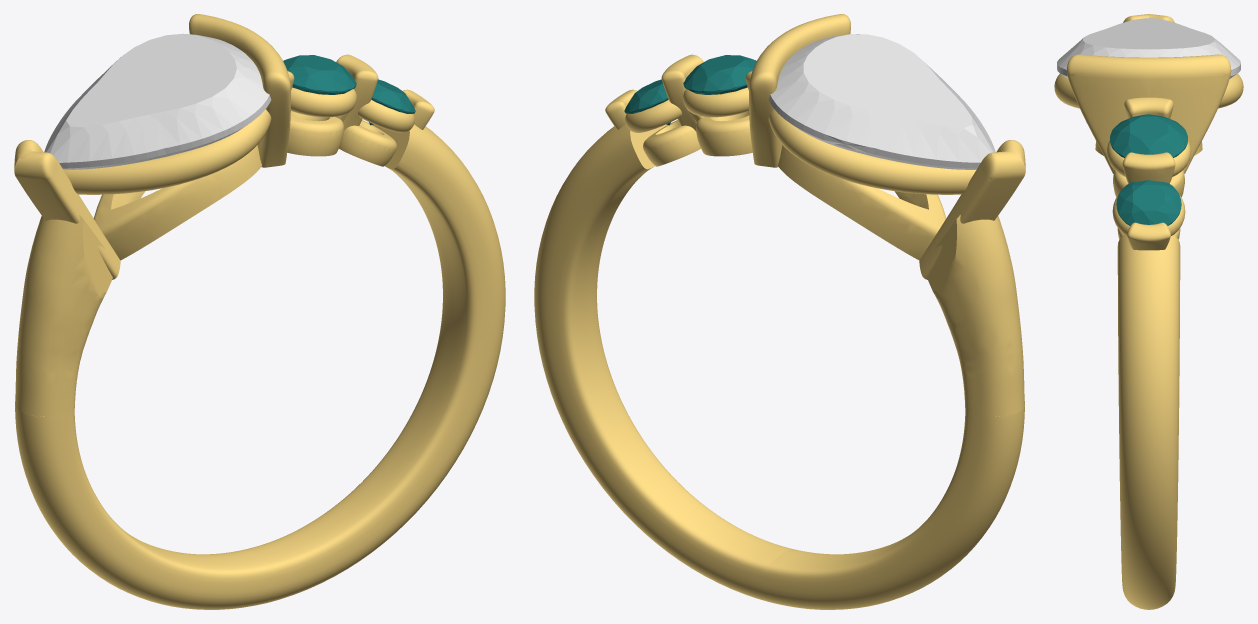
Rendered from NicolasYGhalfsNEW_blender.glb.
The picture shows the model from 3 angles, left to right: view 1: azimuth 30°, elevation 25°; view 2: azimuth 150°, elevation 25°; view 3: azimuth 270°, elevation 25°; orthographic projection. The views are drawn at different scales.
Visible parts, largest first — view 1: V2 Nicolas YG for 3d model, V2 Nicolas center dia for 3d model, V2 Nicolas side sapphire for 3d model.001, V2 Nicolas side sapphire for 3d model; view 2: V2 Nicolas YG for 3d model, V2 Nicolas center dia for 3d model, V2 Nicolas side sapphire for 3d model.001, V2 Nicolas side sapphire for 3d model; view 3: V2 Nicolas YG for 3d model, V2 Nicolas center dia for 3d model, V2 Nicolas side sapphire for 3d model.001, V2 Nicolas side sapphire for 3d model.
Part boxes in pixels (box(x1,y1,x2,y2)): V2 Nicolas YG for 3d model: box(14, 14, 505, 609); V2 Nicolas center dia for 3d model: box(44, 33, 271, 169); V2 Nicolas side sapphire for 3d model.001: box(283, 55, 356, 94); V2 Nicolas side sapphire for 3d model: box(369, 79, 415, 125); V2 Nicolas YG for 3d model: box(534, 14, 1025, 609); V2 Nicolas center dia for 3d model: box(768, 34, 995, 169); V2 Nicolas side sapphire for 3d model.001: box(683, 55, 756, 94); V2 Nicolas side sapphire for 3d model: box(624, 79, 670, 125); V2 Nicolas YG for 3d model: box(1054, 14, 1243, 609); V2 Nicolas center dia for 3d model: box(1057, 18, 1240, 78); V2 Nicolas side sapphire for 3d model.001: box(1110, 114, 1187, 157); V2 Nicolas side sapphire for 3d model: box(1116, 180, 1181, 225).
Bounding box in the file's own units: 19.9 × 22.2 × 7.26.
